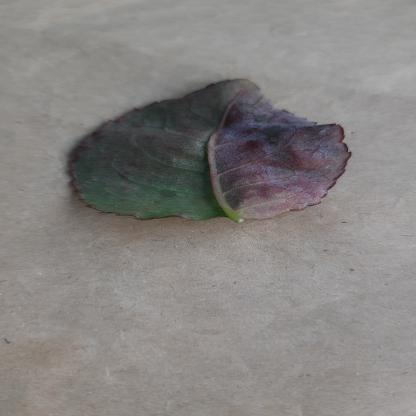powdery-mildew: (66, 78, 354, 220)
